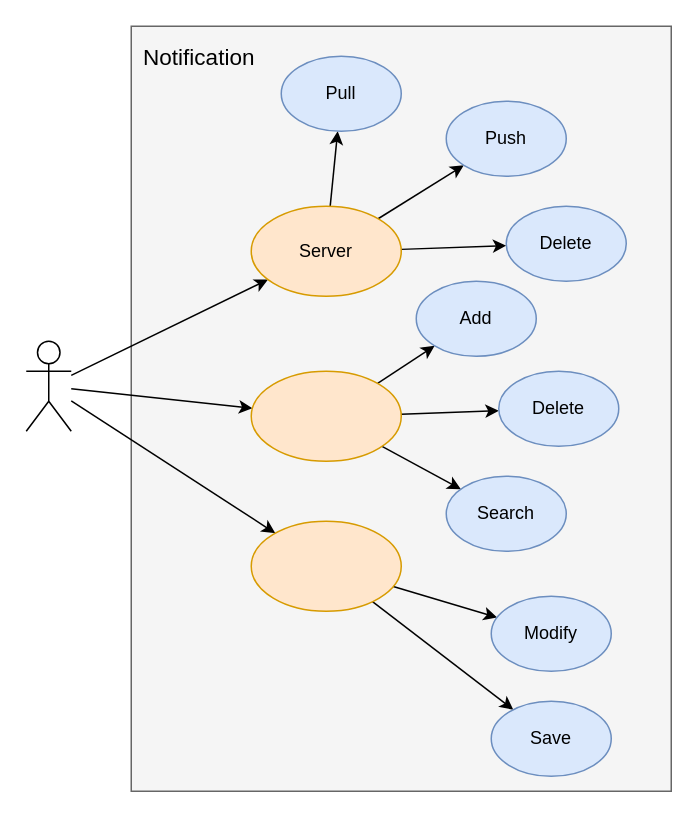
The diagram is 698 pixels wide and 818 high, and some of its shapes have lost their labels. The centre of each missing label's shape, as x and y in pixels:
"Dashboard" belongs at [325,415].
"Detail" belongs at [325,565].
"User" belongs at [48,385].
